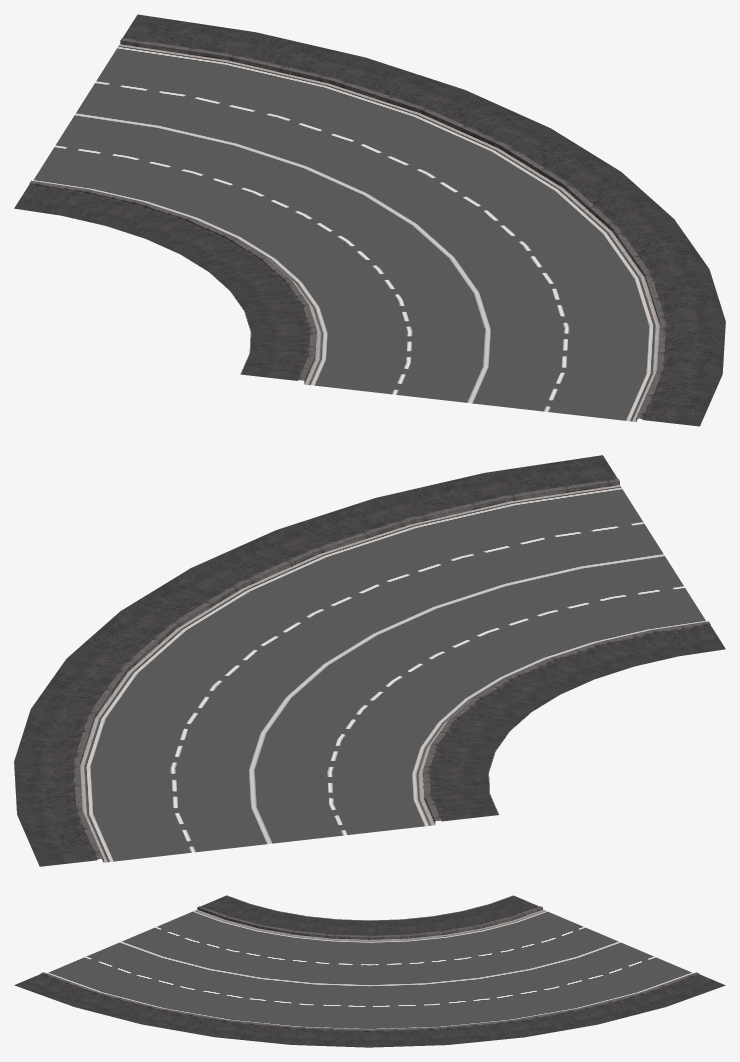
The model's file is 4 lines corner 2.FBX.
3 views of the same model, one above another, from view 1: azimuth 30°, elevation 25°; view 2: azimuth 150°, elevation 25°; view 3: azimuth 270°, elevation 25° (orthographic). The views are drawn at different scales.
Visible parts, largest first — view 1: outter; view 2: outter; view 3: outter.
Part boxes in pixels (<box>): outter: <box>14,14,725,426</box>; outter: <box>14,455,725,866</box>; outter: <box>14,895,725,1047</box>.
Size of the model in its own units: 38.8 by 0.3184 by 76.67.
